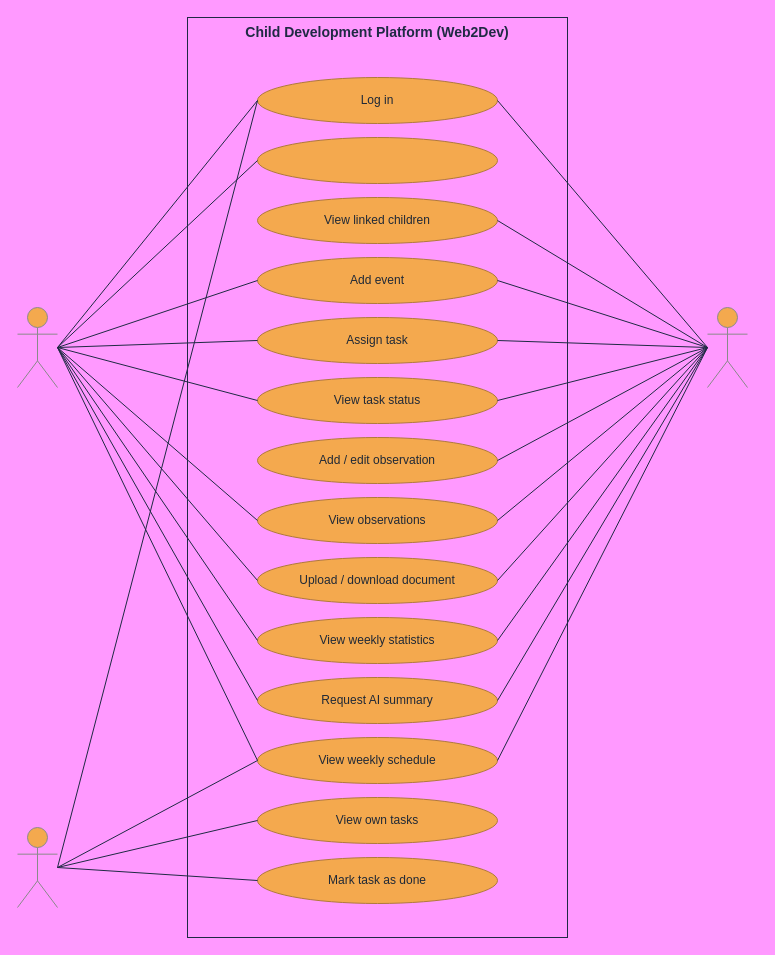
Some shapes in this 775 by 955 pixel diagram are drawn without their labels. Here are the shapes that lost their labels. From the top down, the box of each, then its label:
(256, 136, 498, 184): Link / unlink specialist
(16, 306, 58, 388): Parent
(706, 306, 748, 388): Specialist
(16, 826, 58, 908): Child
